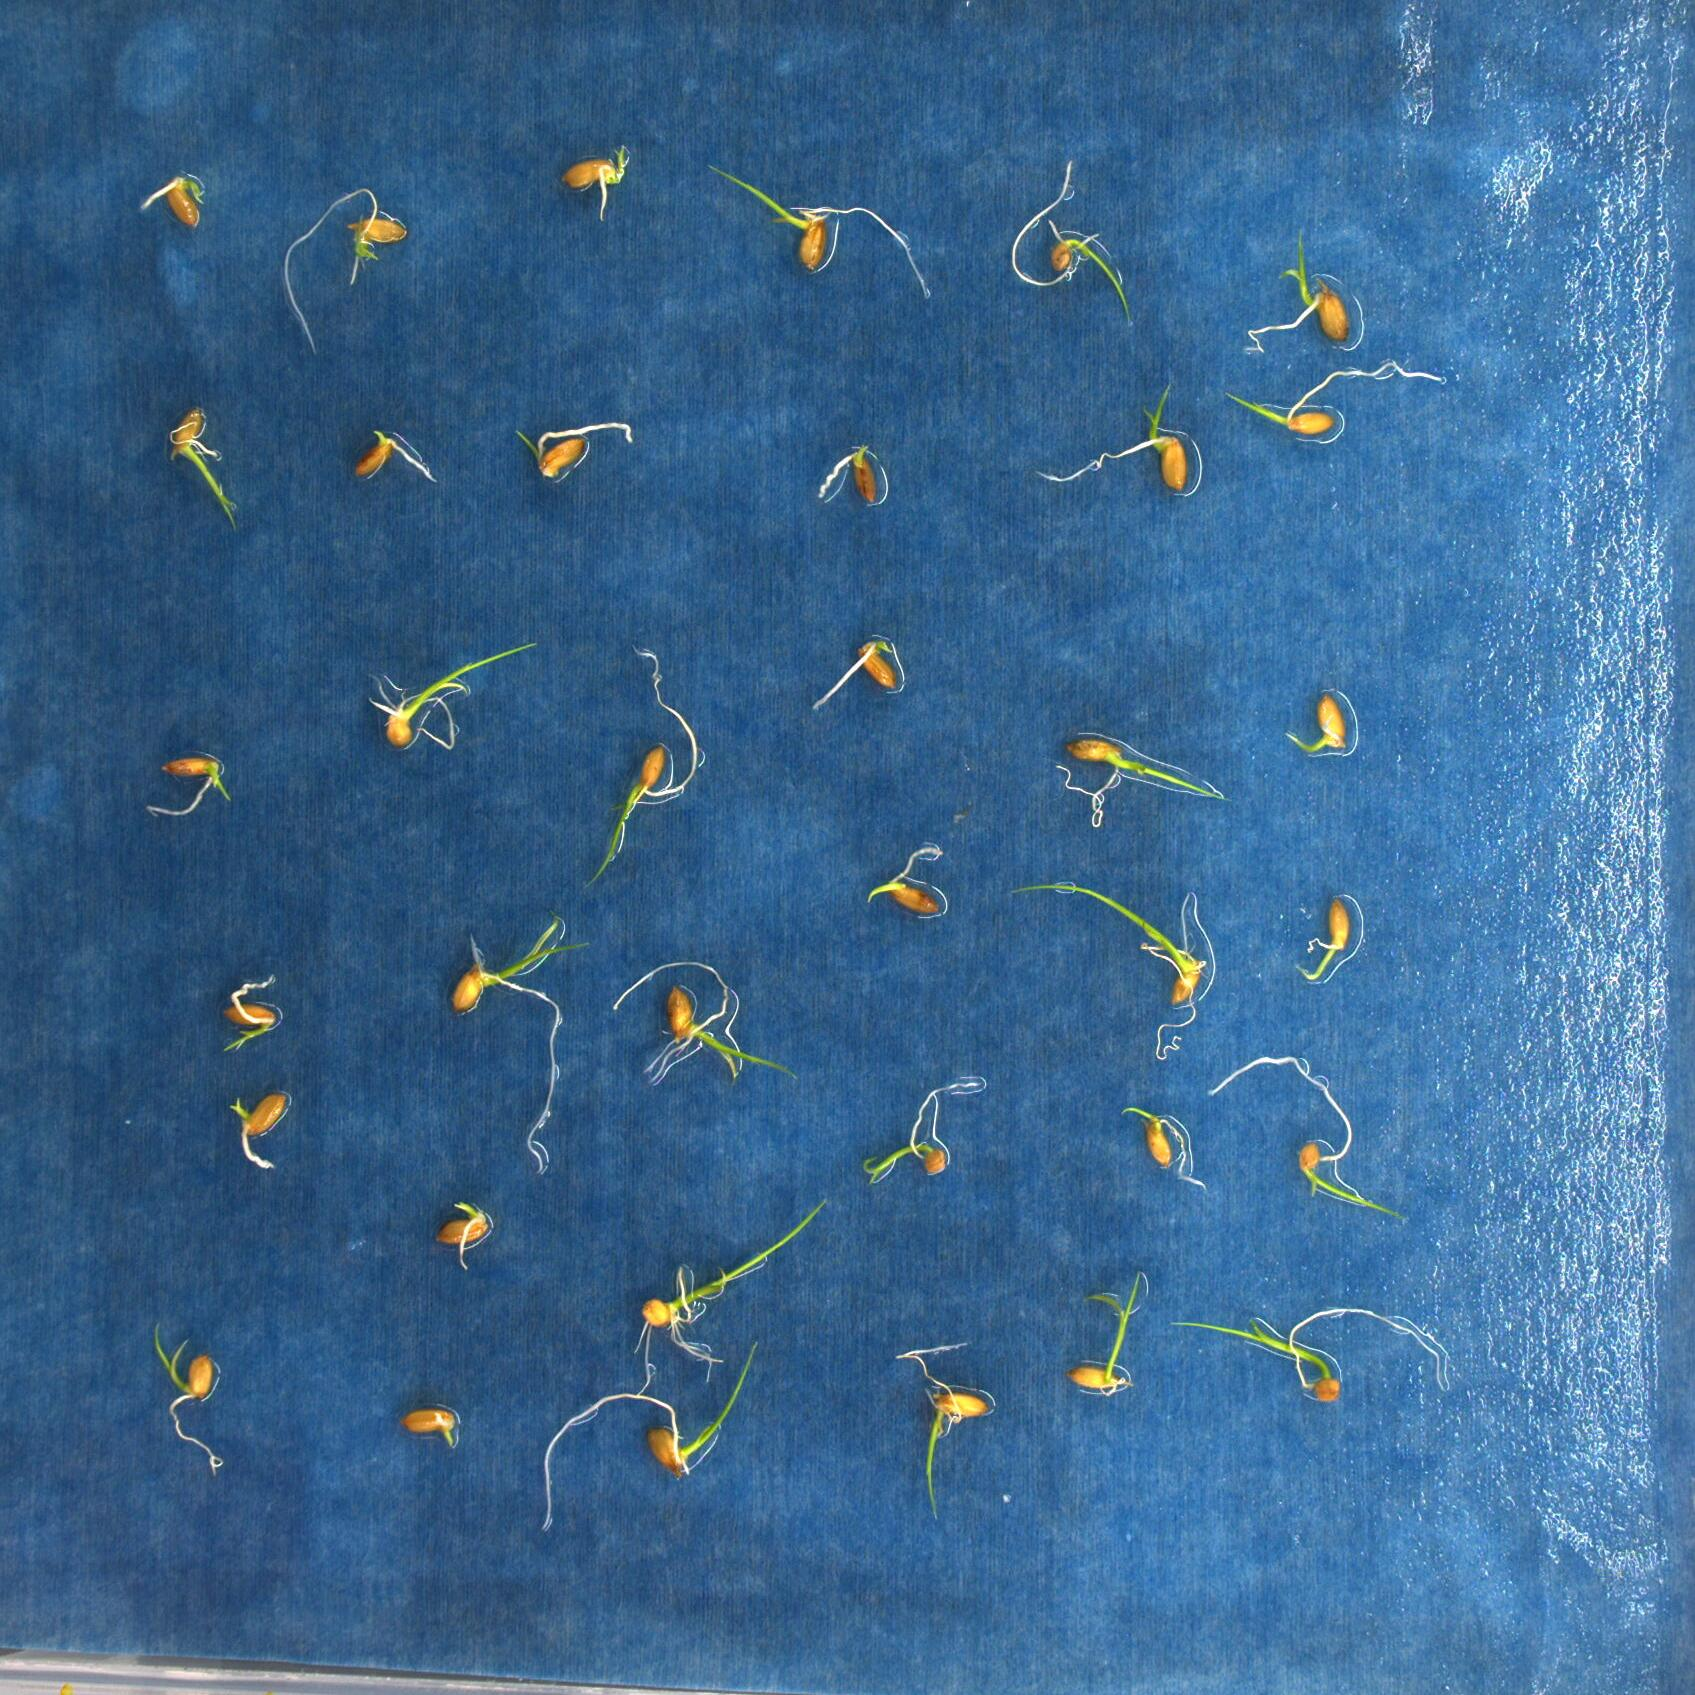not sprout: (812, 636, 900, 705), (355, 424, 435, 483), (813, 444, 882, 508), (399, 1406, 455, 1447)
sprout: (542, 1336, 762, 1526), (633, 1198, 827, 1405), (445, 924, 598, 1175), (1007, 882, 1218, 1062), (706, 155, 930, 298), (1211, 1057, 1402, 1222), (581, 646, 697, 883), (1169, 1309, 1450, 1402), (615, 958, 801, 1093), (281, 186, 407, 354), (366, 640, 542, 747), (1012, 161, 1133, 314), (893, 1344, 995, 1521), (1032, 382, 1191, 489), (1225, 362, 1450, 435), (1057, 733, 1222, 829), (1250, 224, 1355, 357), (861, 1074, 987, 1183), (149, 1318, 228, 1473), (161, 407, 237, 539), (1113, 1107, 1212, 1200), (1066, 1271, 1141, 1395), (515, 419, 632, 473), (868, 844, 944, 917), (556, 144, 629, 217), (149, 754, 236, 815), (227, 1087, 287, 1169), (1288, 896, 1347, 979), (433, 1198, 494, 1274), (1284, 695, 1354, 759), (222, 973, 276, 1049), (140, 168, 203, 230)
